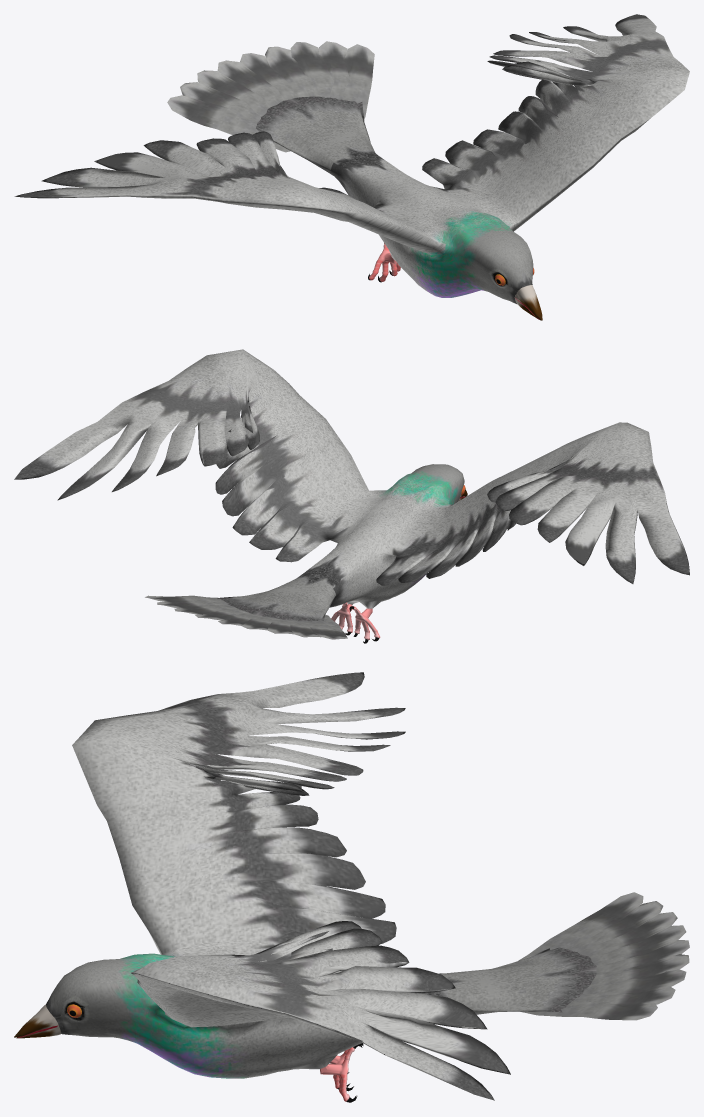
The model's file is paloma.obj.
3 views of the same model, one above another, from view 1: azimuth 30°, elevation 25°; view 2: azimuth 150°, elevation 25°; view 3: azimuth 270°, elevation 25° (orthographic). The views are drawn at different scales.
Visible parts, largest first — view 1: paloma_texturizad_Esqueleto_Dan:Paloma_completa paloma_texturiza, paloma_texturizad_Esqueleto_Dan:Plumas_traseras paloma_texturiza, paloma_texturizad_Esqueleto_Dan:Solo_falta_merge:pluma_trasera_0, paloma_texturizad_Esqueleto_Dan:Pico_Abajo paloma_texturizad_Esq; view 2: paloma_texturizad_Esqueleto_Dan:Paloma_completa paloma_texturiza, paloma_texturizad_Esqueleto_Dan:Plumas_traseras paloma_texturiza; view 3: paloma_texturizad_Esqueleto_Dan:Paloma_completa paloma_texturiza, paloma_texturizad_Esqueleto_Dan:Plumas_traseras paloma_texturiza, paloma_texturizad_Esqueleto_Dan:Solo_falta_merge:pluma_trasera_0.
Part boxes in pixels (<box>): paloma_texturizad_Esqueleto_Dan:Paloma_completa paloma_texturiza: <box>14,14,689,303</box>; paloma_texturizad_Esqueleto_Dan:Plumas_traseras paloma_texturiza: <box>167,41,350,152</box>; paloma_texturizad_Esqueleto_Dan:Solo_falta_merge:pluma_trasera_0: <box>336,44,374,118</box>; paloma_texturizad_Esqueleto_Dan:Pico_Abajo paloma_texturizad_Esq: <box>515,285,542,320</box>; paloma_texturizad_Esqueleto_Dan:Paloma_completa paloma_texturiza: <box>14,349,689,643</box>; paloma_texturizad_Esqueleto_Dan:Plumas_traseras paloma_texturiza: <box>157,600,347,639</box>; paloma_texturizad_Esqueleto_Dan:Paloma_completa paloma_texturiza: <box>46,672,596,1102</box>; paloma_texturizad_Esqueleto_Dan:Plumas_traseras paloma_texturiza: <box>518,892,689,1004</box>; paloma_texturizad_Esqueleto_Dan:Solo_falta_merge:pluma_trasera_0: <box>520,997,657,1020</box>.
Bounding box in the file's own units: 13.76 × 4.01 × 9.79.
1 material, 1 textured.
